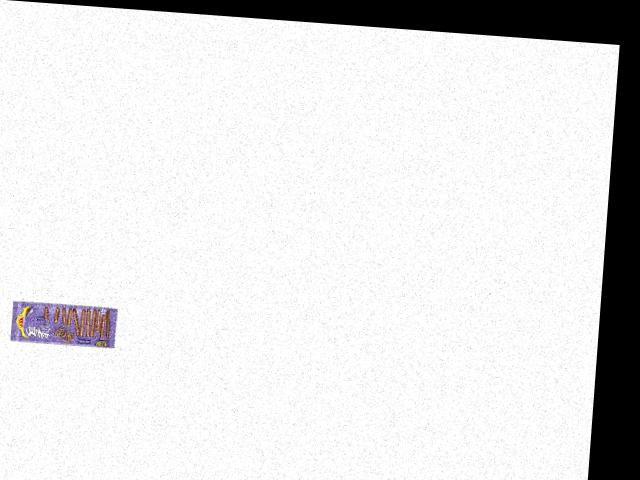chocolate: (9, 295, 120, 349)
